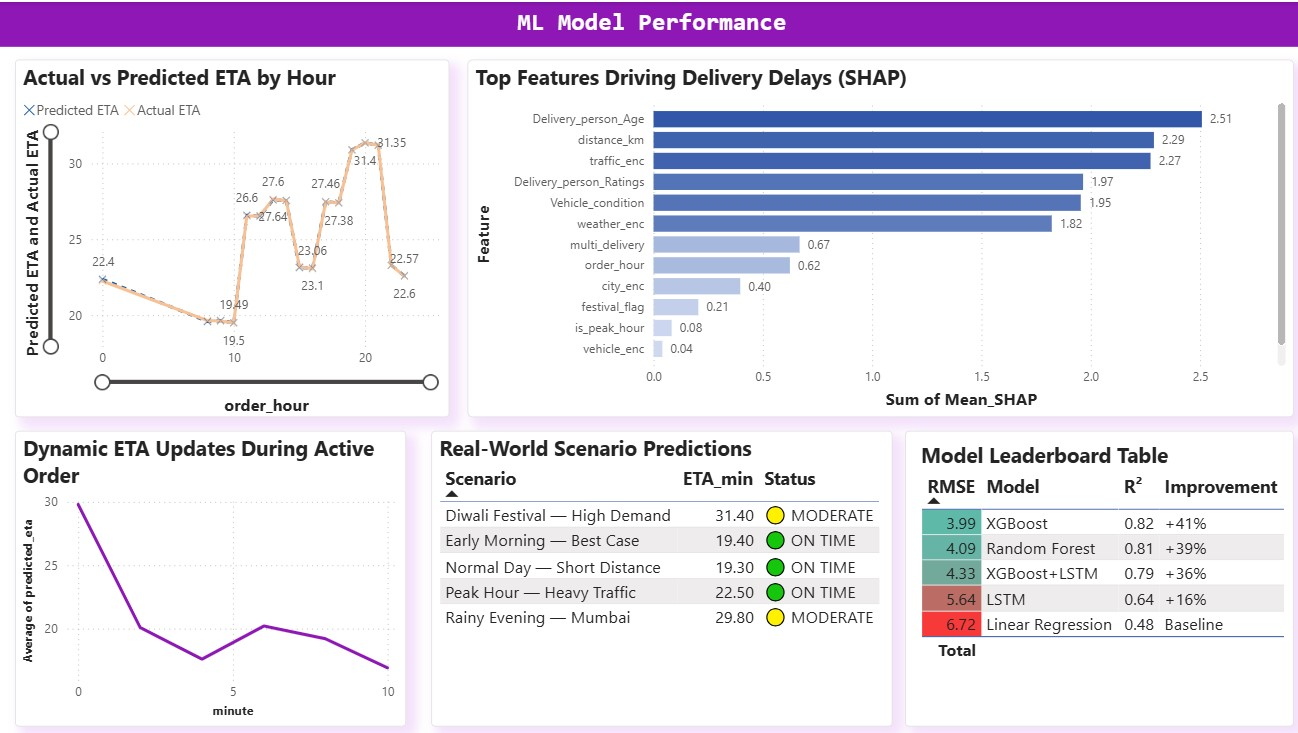

The page's visual inventory and layout, read from the dashboard file:
{"tool":"powerbi","page":{"name":"Model Performance","canvas":[1280,720],"ordinal":2},"visuals":[{"type":"lineChart","title":"Actual vs Predicted ETA by Hour","fields":{"Category":["Orders.order_hour"],"Y":["Avg(Orders.predicted_time)","Avg(Orders.time_taken)"]},"box":[15,56.2,426.2,351.2],"z":0},{"type":"barChart","title":"Top Features Driving Delivery Delays (SHAP)","fields":{"Y":["Sum(shap_feature_importance.Mean_SHAP)"],"Category":["shap_feature_importance.Feature"]},"box":[458.8,56.2,811.2,351.2],"z":1000},{"type":"tableEx","title":"Real-World Scenario Predictions","fields":{"Values":["Scenarios.Scenario","Scenarios.ETA_min","Scenarios.Status"]},"box":[423.8,421.2,452.5,290],"z":2000},{"type":"lineChart","title":"Dynamic ETA Updates During Active Order","fields":{"Category":["LiveTracking.minute"],"Y":["Avg(LiveTracking.predicted_eta)"]},"box":[15,421.2,383.8,290],"z":3000},{"type":"tableEx","title":"Model Leaderboard Table ","fields":{"Values":["Table.RMSE","Table.Model","Table.R²","Table.Improvement"]},"box":[888.8,421.2,381.2,290],"z":4000},{"type":"textbox","box":[0,0,1280,43.8],"z":5000}]}

Visuals, with their boxes in screenshot pixels (x1, y1, x2, y2), scaled from the page's 1280x720 canvas onto the 1298x733 screenshot:
"Actual vs Predicted ETA by Hour" lineChart: 15:57:447:415
"Top Features Driving Delivery Delays (SHAP)" barChart: 465:57:1288:415
"Real-World Scenario Predictions" tableEx: 430:429:889:724
"Dynamic ETA Updates During Active Order" lineChart: 15:429:404:724
"Model Leaderboard Table " tableEx: 901:429:1288:724
textbox: 0:0:1297:45
